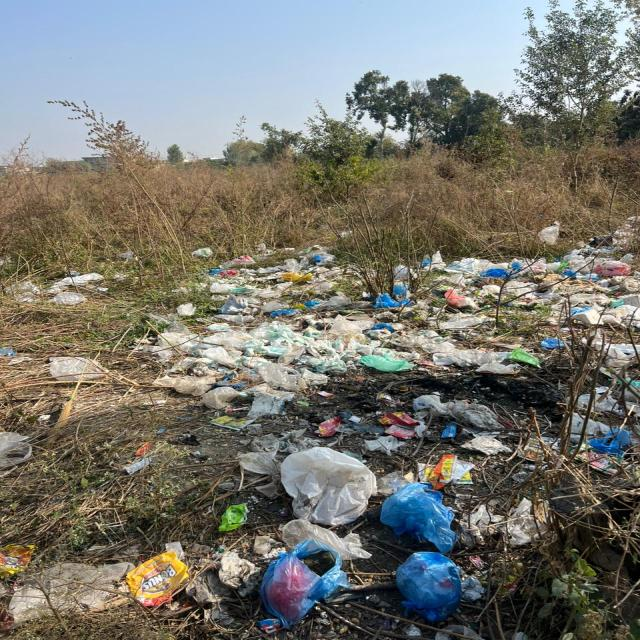garbage: (153, 246, 640, 639)
